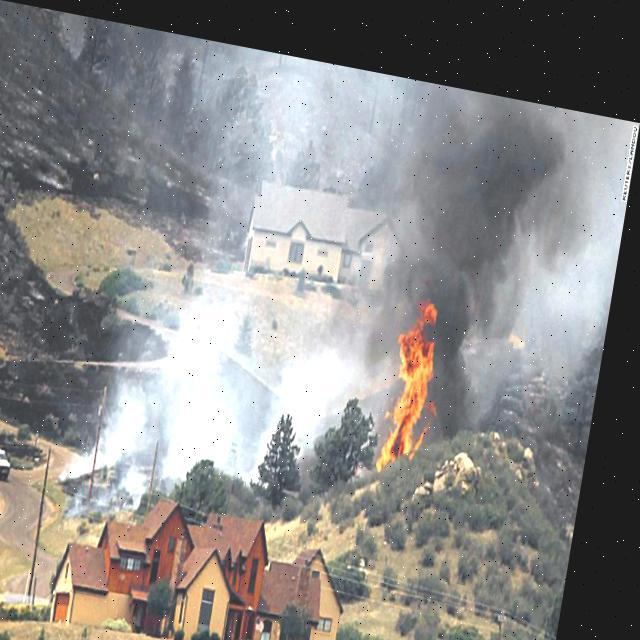Fire: (388, 278, 456, 460)
